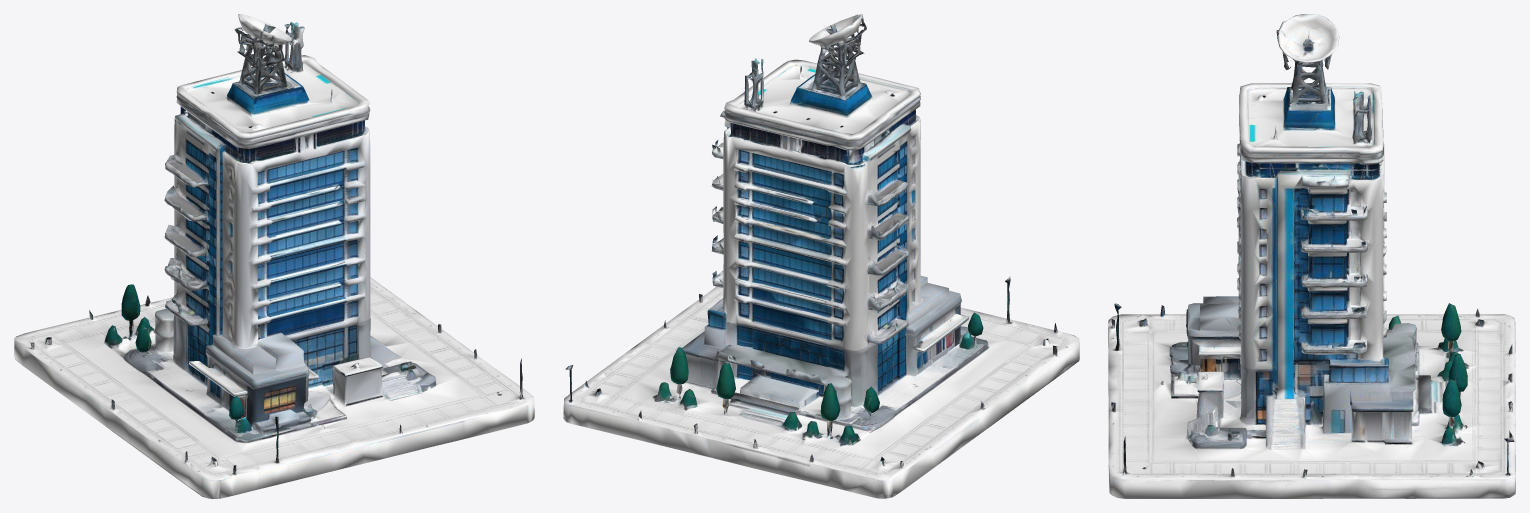
The model's file is tower.glb.
3 views of the same model, side by side, from view 1: azimuth 30°, elevation 25°; view 2: azimuth 150°, elevation 25°; view 3: azimuth 270°, elevation 25° (orthographic). The views are drawn at different scales.
Visible parts, largest first — view 1: Mesh_0; view 2: Mesh_0; view 3: Mesh_0.
Boxes of the visible parts, bbox=[...] form: Mesh_0: bbox=[14, 14, 534, 498]; Mesh_0: bbox=[563, 14, 1079, 498]; Mesh_0: bbox=[1108, 14, 1515, 498].
Bounding box in the file's own units: 1.76 × 1.91 × 1.83.
1 material, 1 textured.
